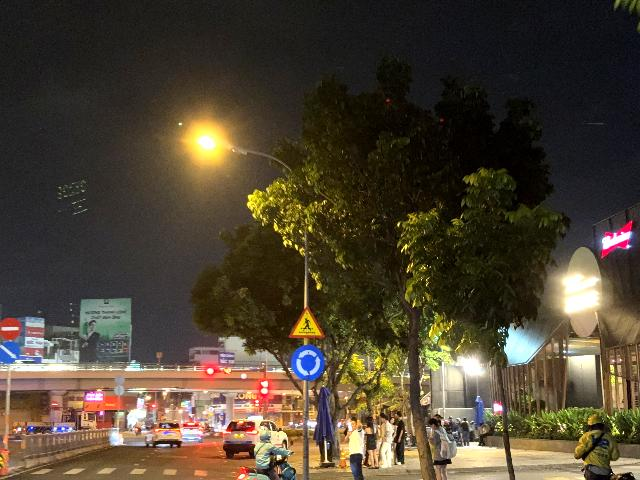cam-di-nguoc-chieu: (0, 317, 22, 341)
duong-nguoi-di-bo-cat-ngang: (288, 304, 326, 337)
huong-phai-di-vong-chuong-ngai-vat: (0, 342, 21, 365)
noi-giao-nhau-chay-theo-vong-xuyen: (291, 345, 325, 381)
